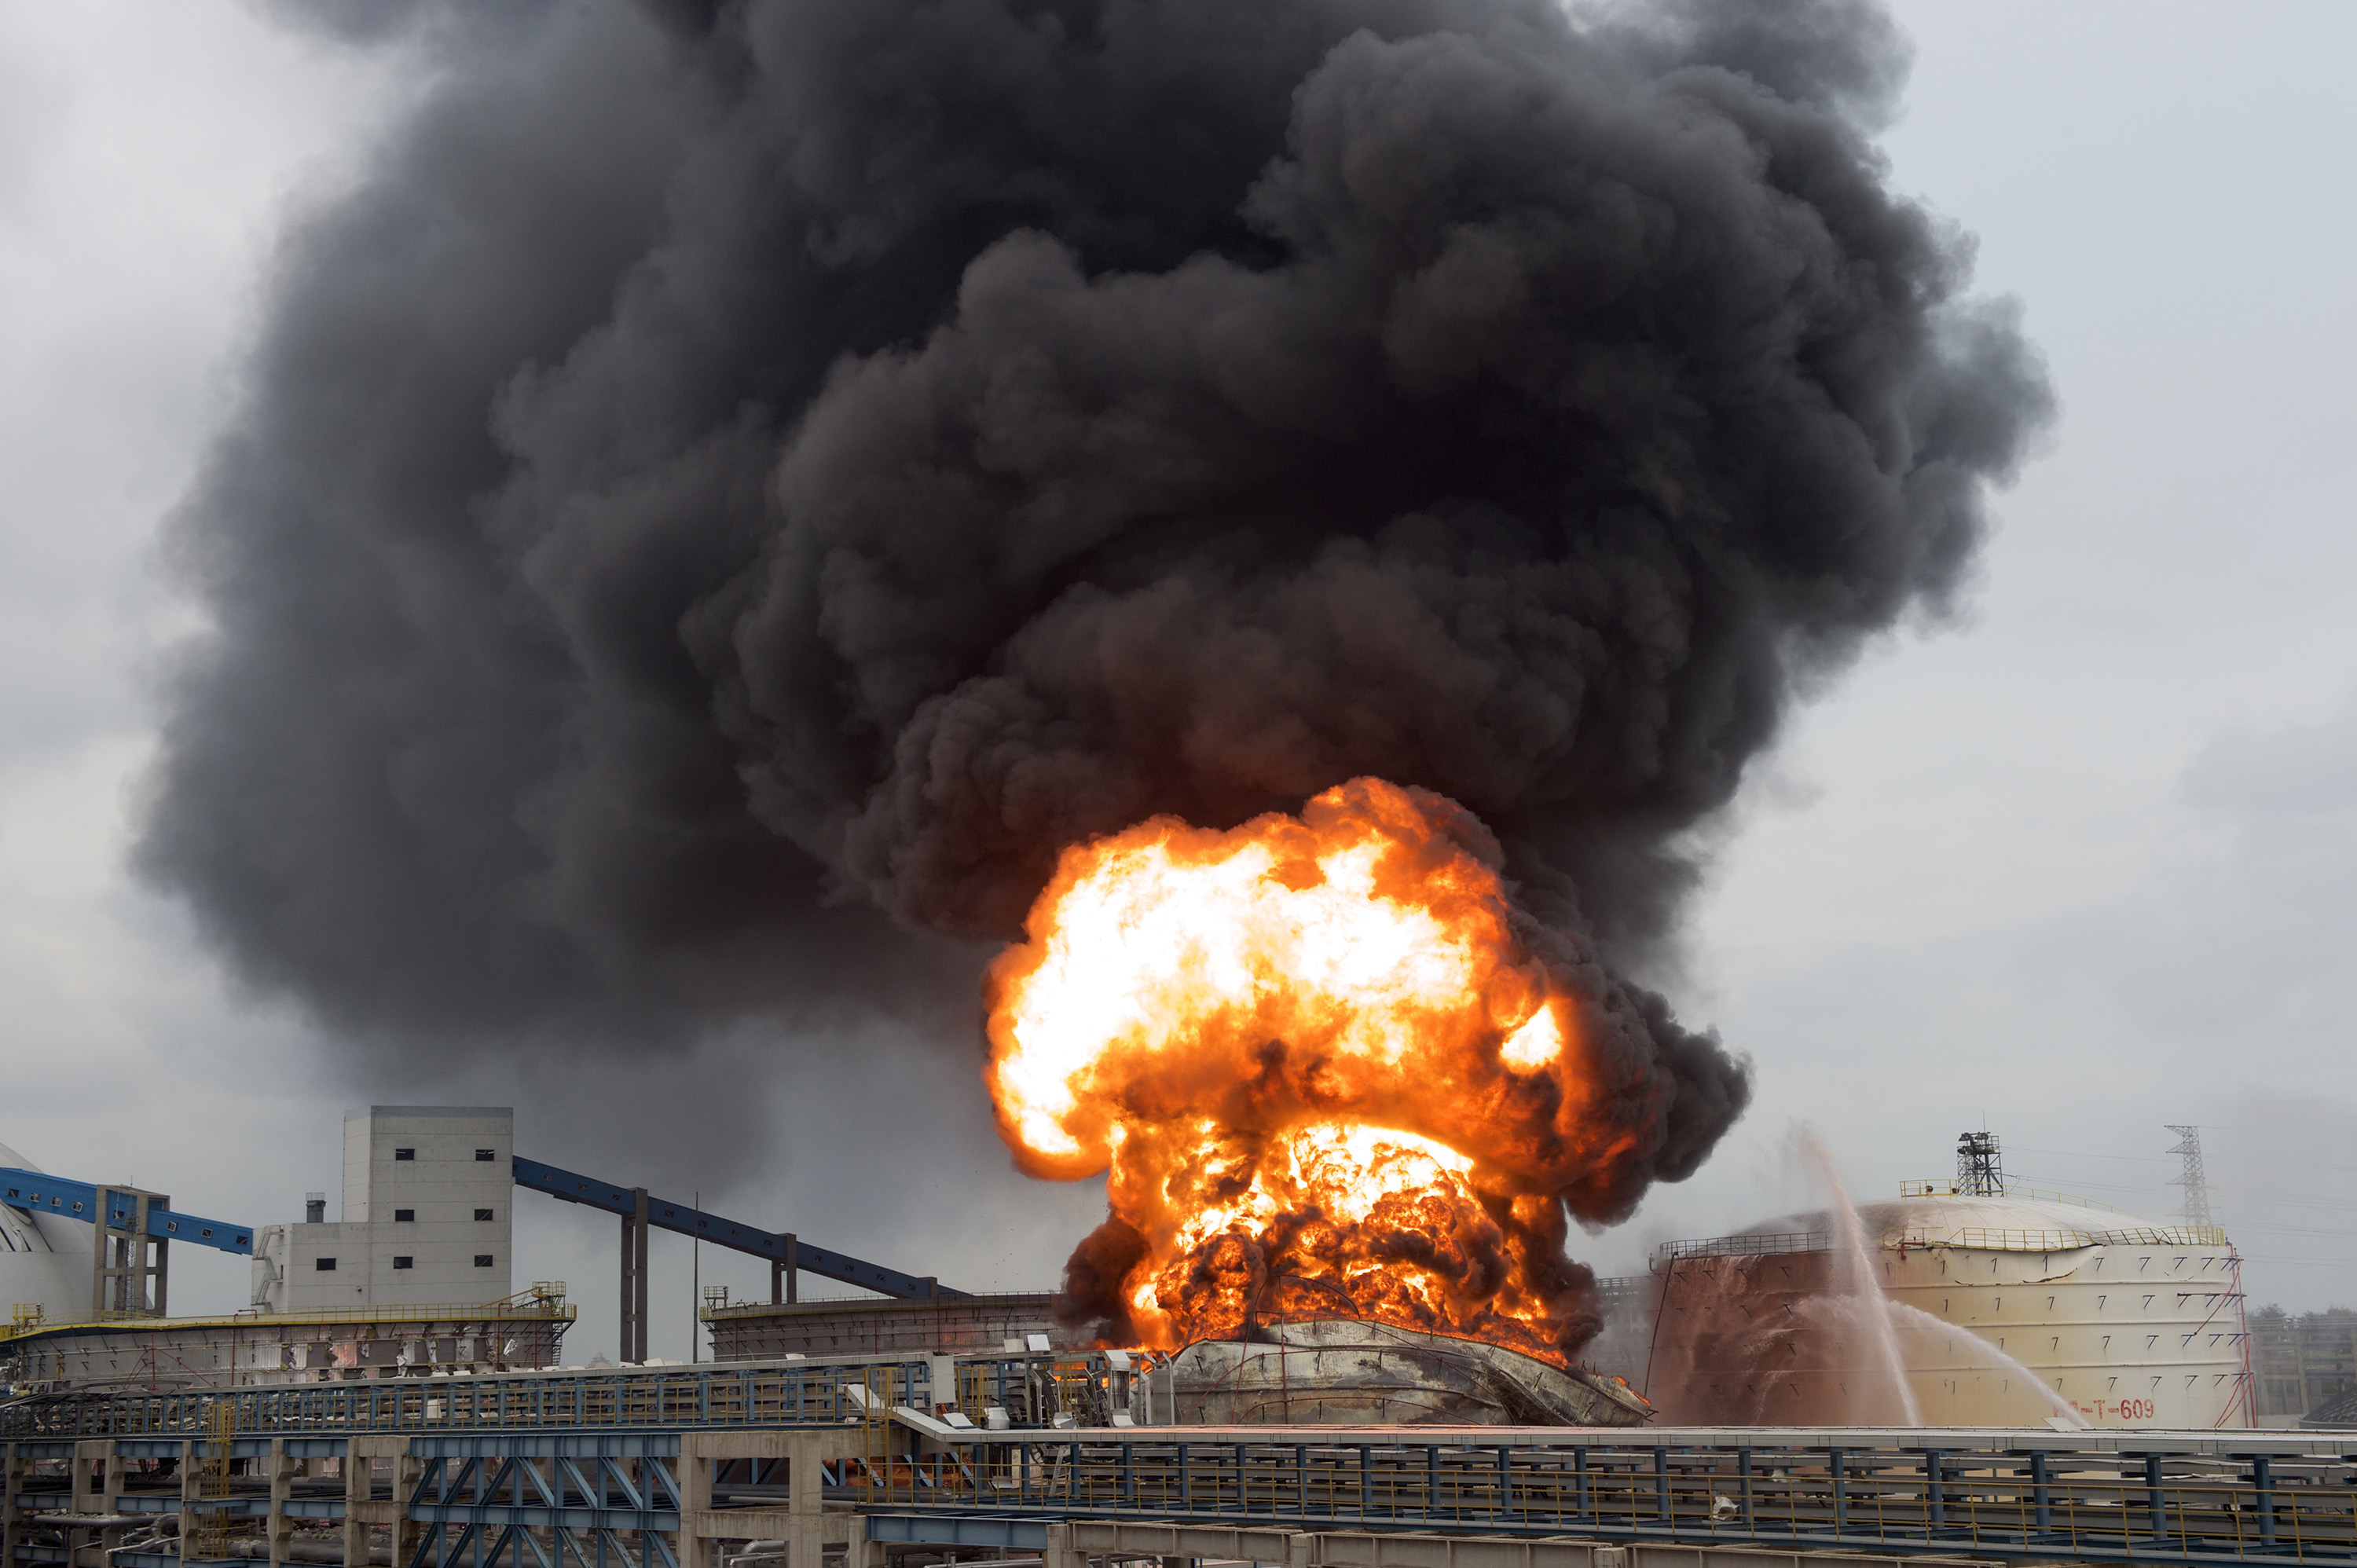fire: (964, 753, 1755, 1348)
